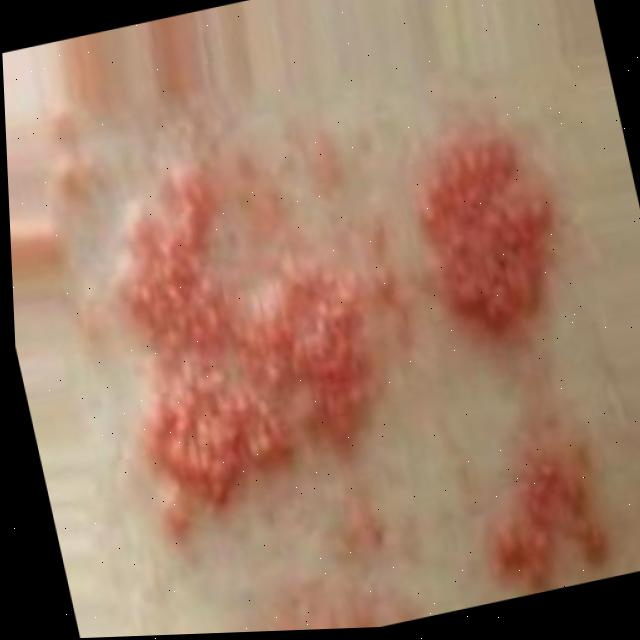Shingles: (52, 35, 631, 638)
